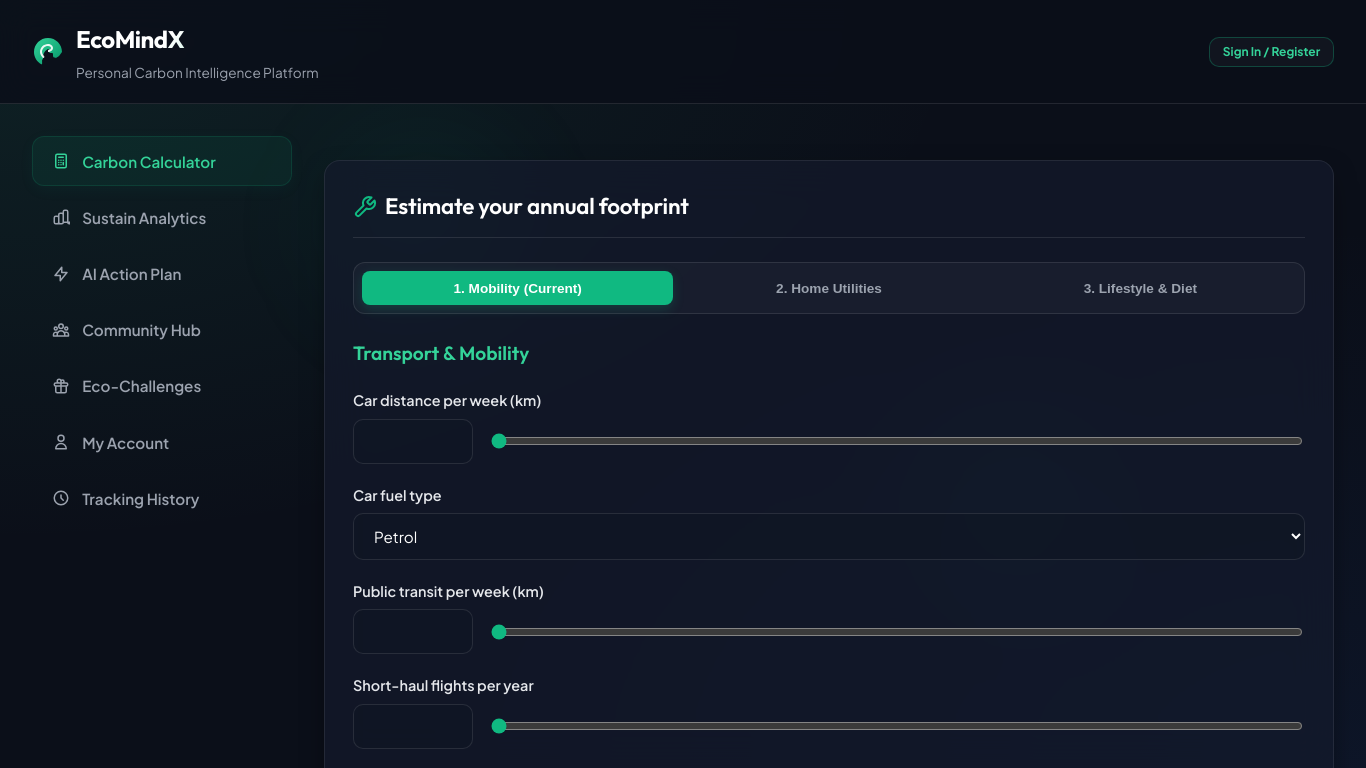
Scenario: App › navigates to Eco-Challenges and renders successfully
This screenshot has width=1366, height=768.
Click the tab "Eco-Challenges". click: click(162, 386)
box: [32,361,292,411]
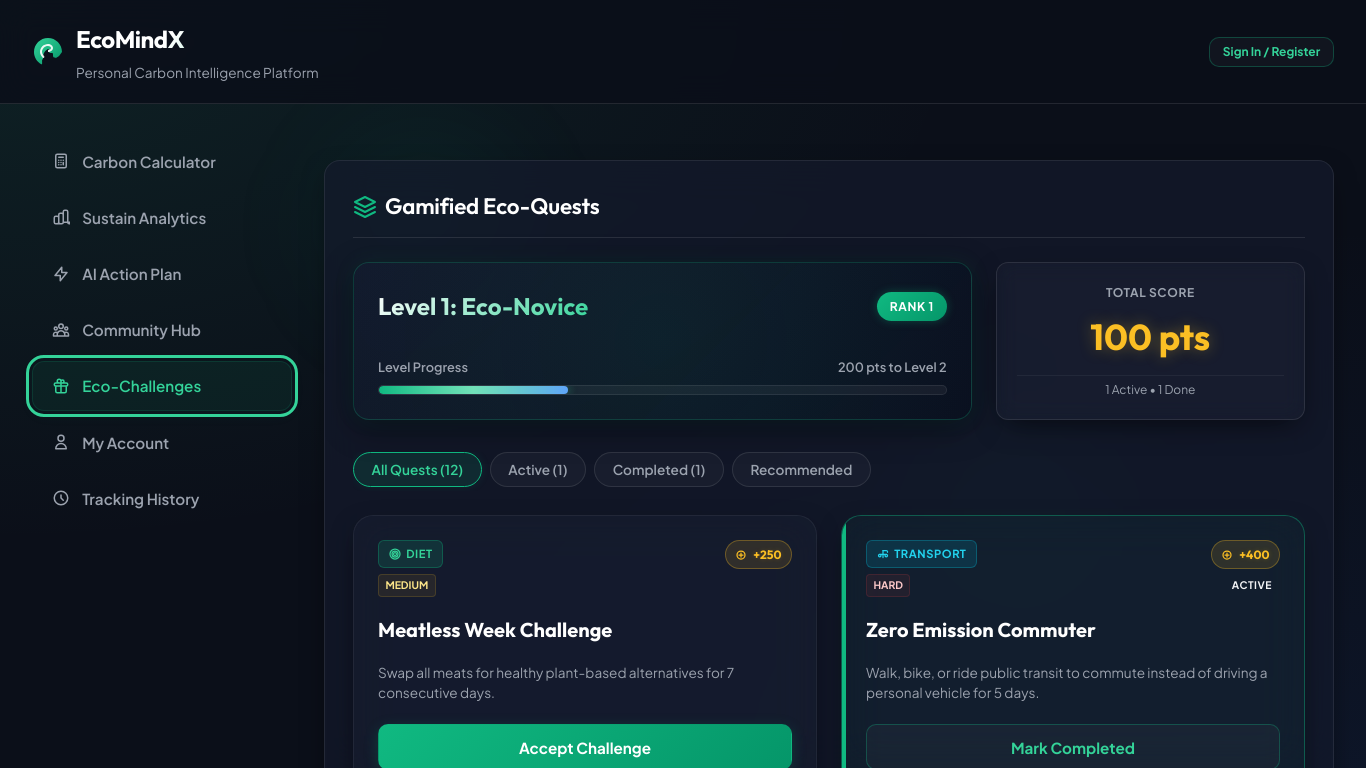
Now the heading "Gamified Eco-Quests" is shown, box [353,189,1305,238]
